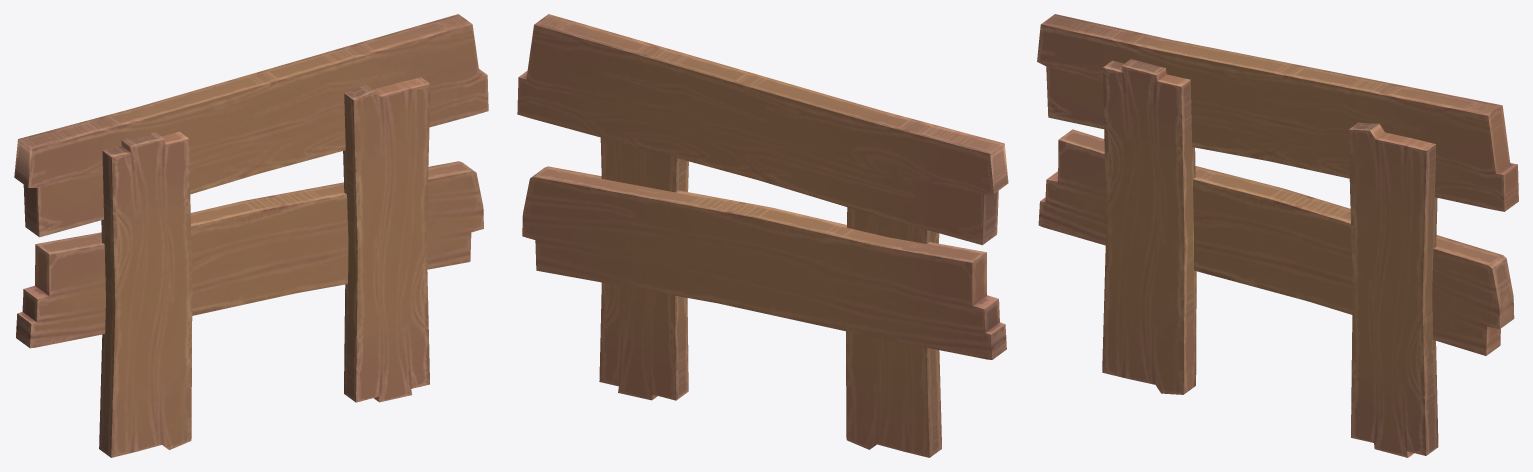
Rendered from Pfb_Wood_Fence1.fbx.
3 renders of one model, left to right at view 1: azimuth 30°, elevation 25°; view 2: azimuth 150°, elevation 25°; view 3: azimuth 330°, elevation 25°, orthographic. The views are drawn at different scales.
Parts seen in each view (by area): view 1: Woodboard; view 2: Woodboard; view 3: Woodboard.
Boxes of the visible parts, bbox=[...] form: Woodboard: bbox=[14, 14, 488, 457]; Woodboard: bbox=[517, 14, 1008, 457]; Woodboard: bbox=[1037, 14, 1518, 457].
Bounding box in the file's own units: 1.23 × 0.8835 × 0.1082.
Materials: 1 (1 with a texture image).
